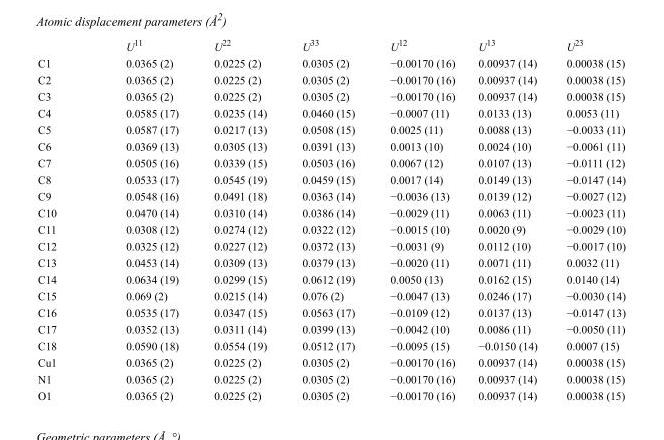table: (37, 37, 624, 401)
table column: (90, 37, 195, 401), (371, 37, 466, 401), (195, 37, 283, 401), (283, 37, 371, 401), (466, 37, 551, 401), (551, 37, 624, 401), (37, 37, 90, 401)
table column header: (37, 37, 624, 54)
table row: (37, 37, 624, 54), (37, 54, 624, 71), (37, 87, 624, 104), (37, 120, 624, 137), (37, 137, 624, 154), (37, 170, 624, 187), (37, 187, 624, 204), (37, 220, 624, 237), (37, 253, 624, 270), (37, 270, 624, 287), (37, 303, 624, 320), (37, 320, 624, 337), (37, 353, 624, 370), (37, 71, 624, 87), (37, 104, 624, 120), (37, 154, 624, 170), (37, 204, 624, 220), (37, 237, 624, 253), (37, 287, 624, 303), (37, 337, 624, 353), (37, 370, 624, 386), (37, 386, 624, 401)
